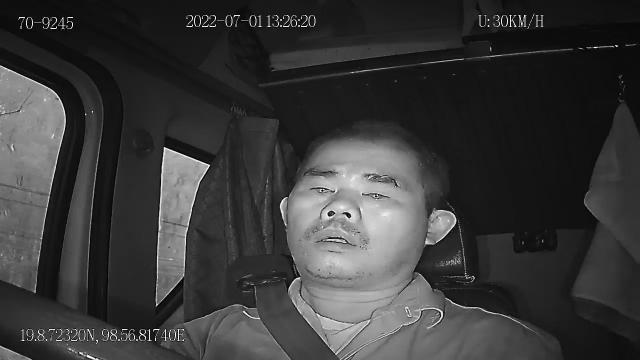SafeDriving: (296, 174, 340, 204), (354, 179, 398, 207)
Seatbelt: (248, 280, 342, 360)
